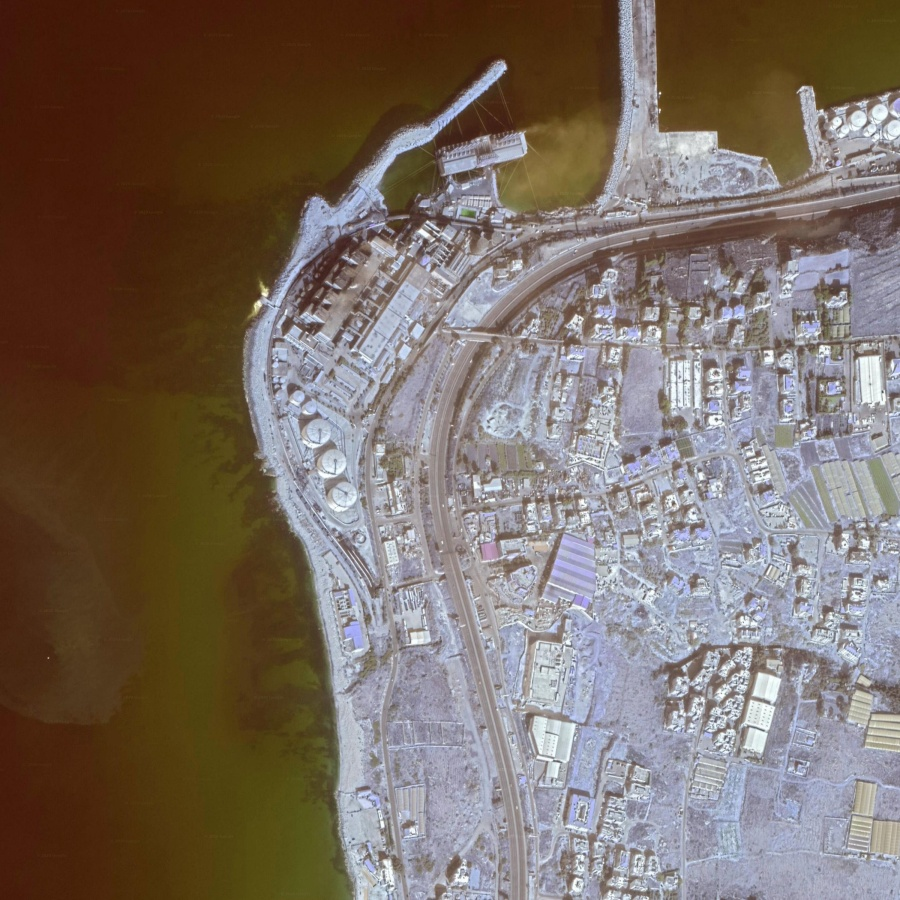PowerPlant: (235, 118, 531, 516)
